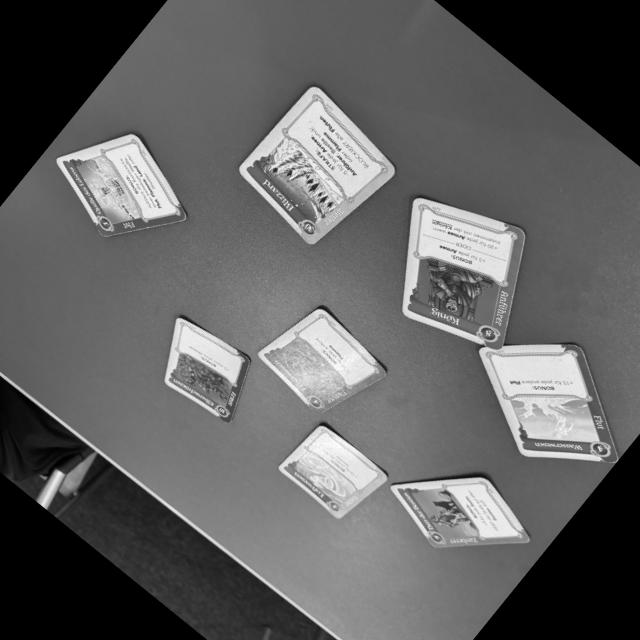Air Elemental: (277, 421, 391, 522)
Beast Master: (390, 475, 533, 549)
Blizzard: (236, 80, 404, 251)
Elven Archers: (161, 312, 254, 425)
Fire Elemental: (257, 301, 391, 417)
Fountain Of Life: (53, 130, 187, 243)
King: (402, 197, 522, 351)
Water Elemental: (476, 345, 617, 462)
